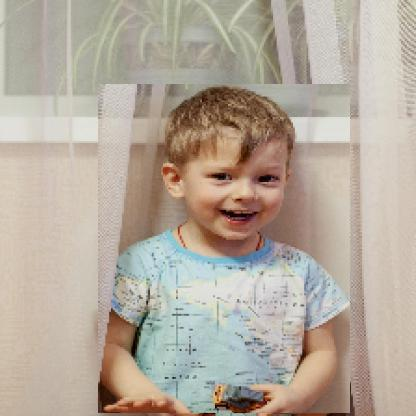child: (99, 85, 352, 415)
